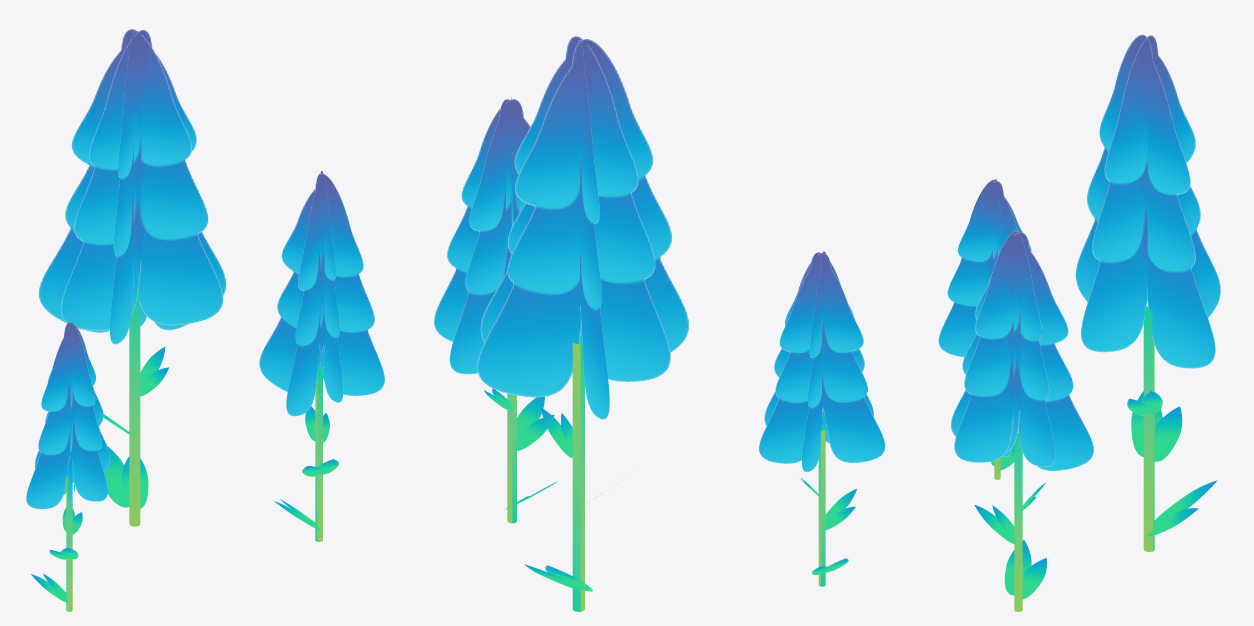
Rendered from Flowers_n02_13.fbx.
3 renders of one model, left to right at view 1: azimuth 30°, elevation 25°; view 2: azimuth 150°, elevation 25°; view 3: azimuth 270°, elevation 25°, orthographic. The views are drawn at different scales.
Parts seen in each view (by area): view 1: polySurface316; view 2: polySurface316; view 3: polySurface316.
Part boxes in pixels (bbox=[...]): polySurface316: bbox=[26, 29, 384, 611]; polySurface316: bbox=[434, 36, 885, 611]; polySurface316: bbox=[938, 34, 1220, 611].
Bounding box in the file's own units: 33.56 × 42.59 × 22.88.
Materials: 1 (1 with a texture image).
